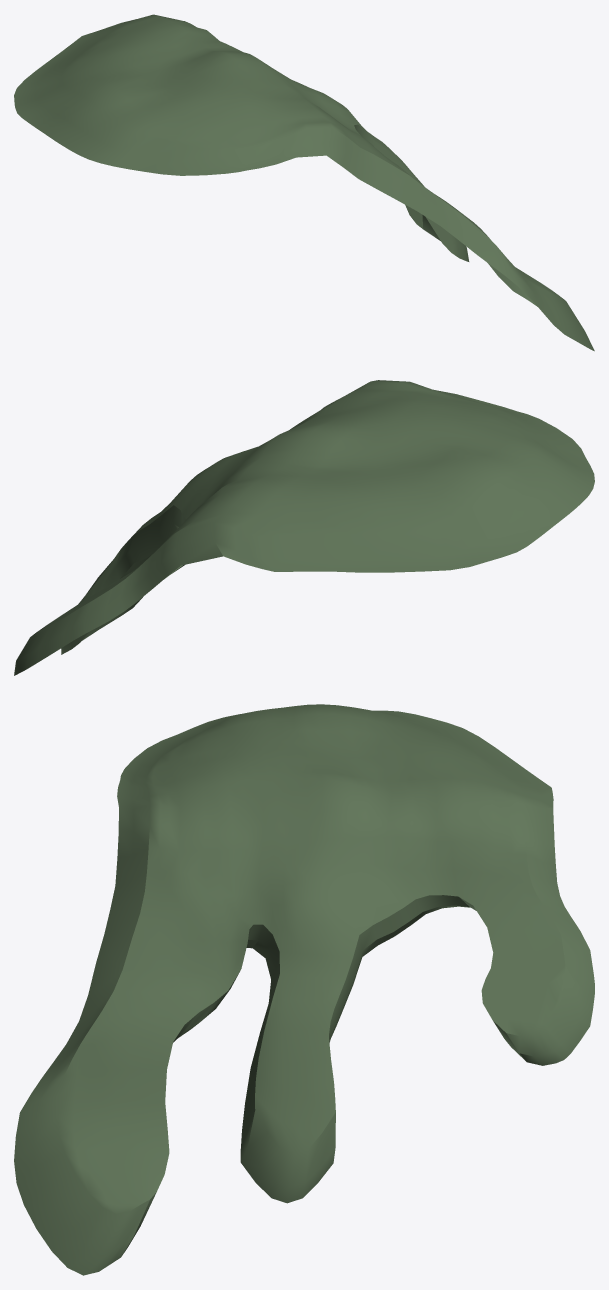
The model's file is Slime callendo 1.fbx.
3 views of the same model, one above another, from view 1: azimuth 30°, elevation 25°; view 2: azimuth 150°, elevation 25°; view 3: azimuth 270°, elevation 25° (orthographic). The views are drawn at different scales.
Visible parts, largest first — view 1: pPlane3; view 2: pPlane3; view 3: pPlane3.
Part boxes in pixels (x1,y1,x2,y2): pPlane3: (14,14,594,351); pPlane3: (14,380,594,675); pPlane3: (14,704,594,1275).
Bounding box in the file's own units: 5.38 × 3.24 × 5.01.
